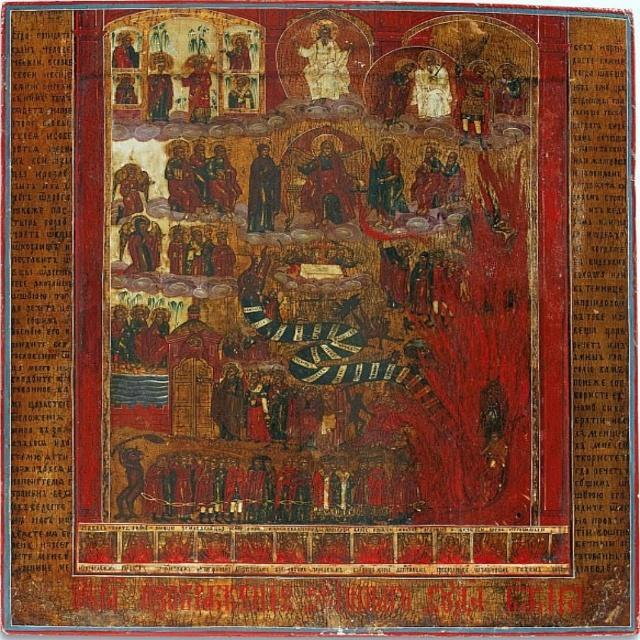angel: (114, 215, 164, 278), (113, 164, 152, 217)
aura: (309, 134, 346, 159), (309, 18, 339, 42), (494, 62, 524, 84), (374, 137, 404, 158), (468, 59, 492, 85), (147, 52, 176, 73), (415, 49, 446, 68), (164, 139, 192, 160), (208, 139, 235, 160), (394, 59, 417, 81), (441, 146, 466, 166), (419, 141, 442, 162), (393, 239, 415, 259), (252, 138, 276, 156), (113, 72, 138, 89), (222, 360, 242, 381), (129, 215, 151, 233), (129, 302, 149, 321), (186, 56, 211, 71), (229, 74, 251, 91), (228, 33, 251, 48), (168, 224, 190, 239), (118, 31, 135, 49), (151, 306, 170, 322), (110, 304, 128, 320), (189, 225, 206, 241), (247, 368, 266, 382)
book: (300, 262, 347, 279)
christ: (300, 132, 356, 224)
church: (167, 299, 222, 440)
cross: (309, 234, 338, 264)
crown: (215, 229, 228, 241), (152, 56, 169, 65), (125, 166, 136, 174)
demon: (236, 241, 278, 336), (110, 444, 146, 521)
king: (170, 226, 188, 272)
mary: (250, 139, 278, 231)
person: (289, 452, 312, 523), (192, 456, 215, 526), (148, 452, 169, 525), (172, 454, 190, 522)
queen: (214, 231, 235, 276)
saint: (371, 137, 405, 229), (458, 57, 492, 148), (213, 362, 245, 441), (408, 142, 442, 211), (208, 142, 241, 213), (378, 234, 408, 312), (416, 49, 448, 119), (164, 138, 192, 217), (494, 61, 525, 131), (184, 58, 215, 124), (244, 367, 270, 444), (121, 304, 148, 368), (144, 306, 170, 370), (188, 141, 212, 209), (411, 246, 431, 316), (110, 302, 131, 363), (444, 148, 464, 209), (187, 228, 208, 276)
the_father: (289, 19, 360, 99)
wing: (462, 31, 492, 59), (118, 219, 134, 261), (151, 219, 166, 252), (112, 166, 125, 202), (141, 169, 154, 201)
